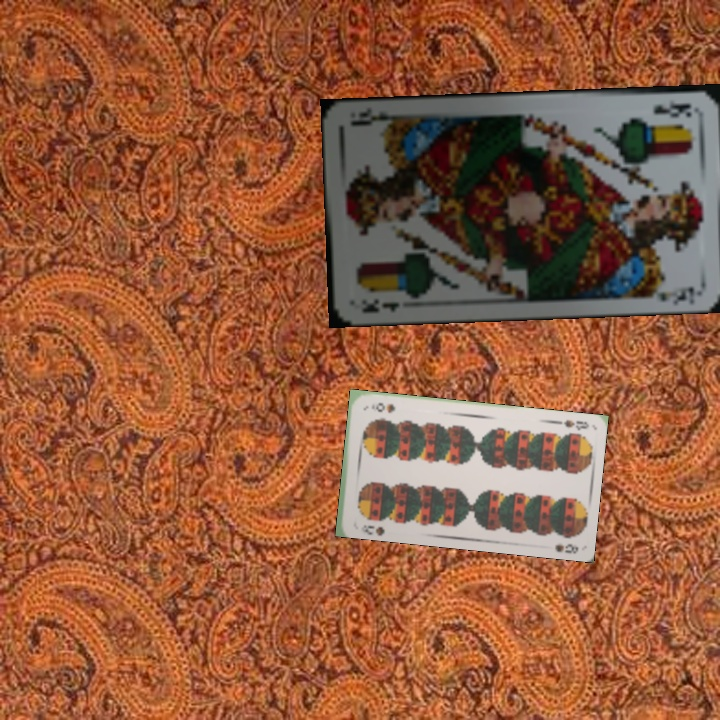EK: (650, 98, 694, 120), (357, 295, 402, 316)
S8: (551, 416, 591, 433), (357, 521, 387, 537)
